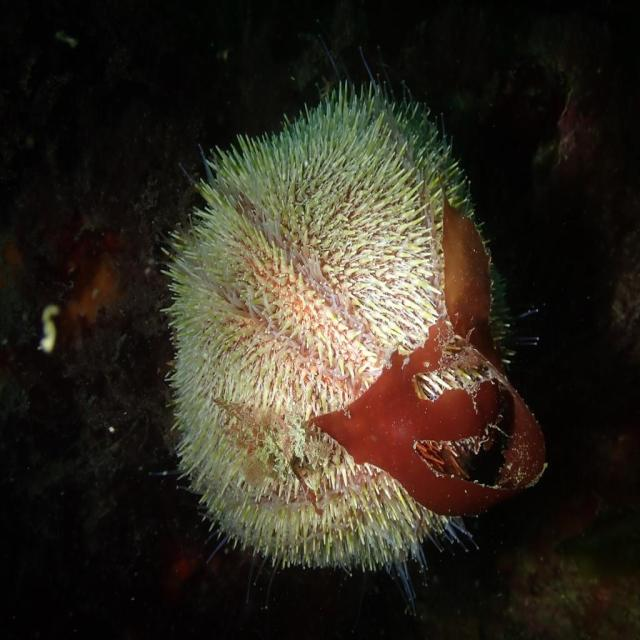Deniz Kestanesi: (154, 46, 542, 613)
